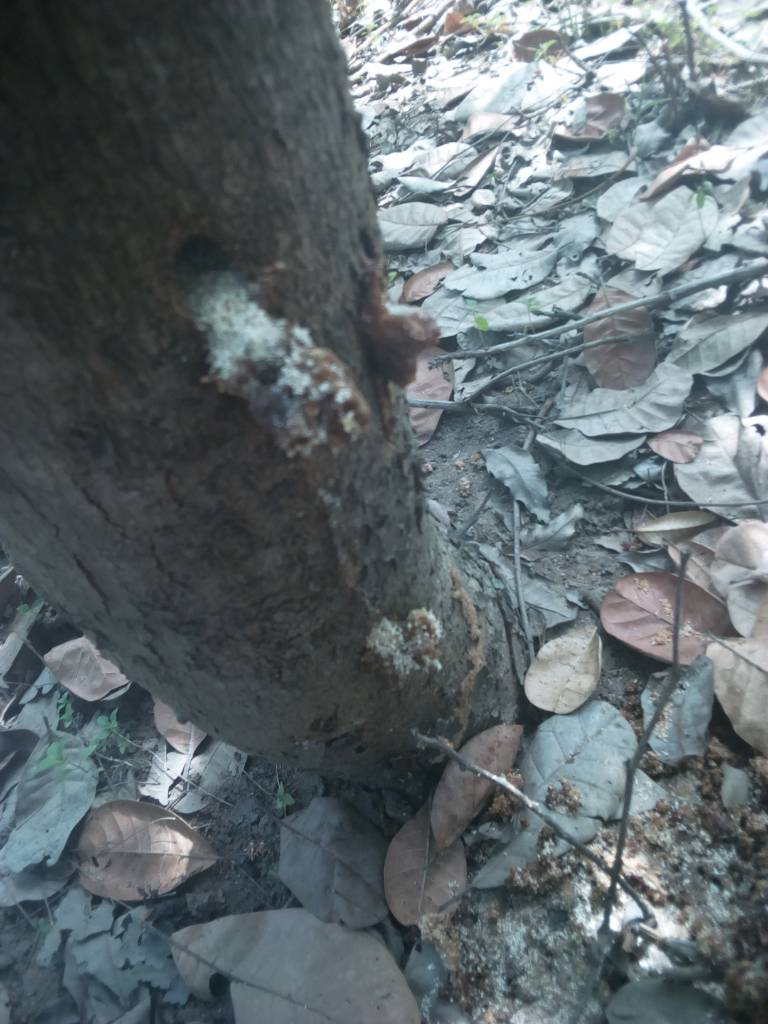Apate terebrans: (133, 219, 279, 346)
